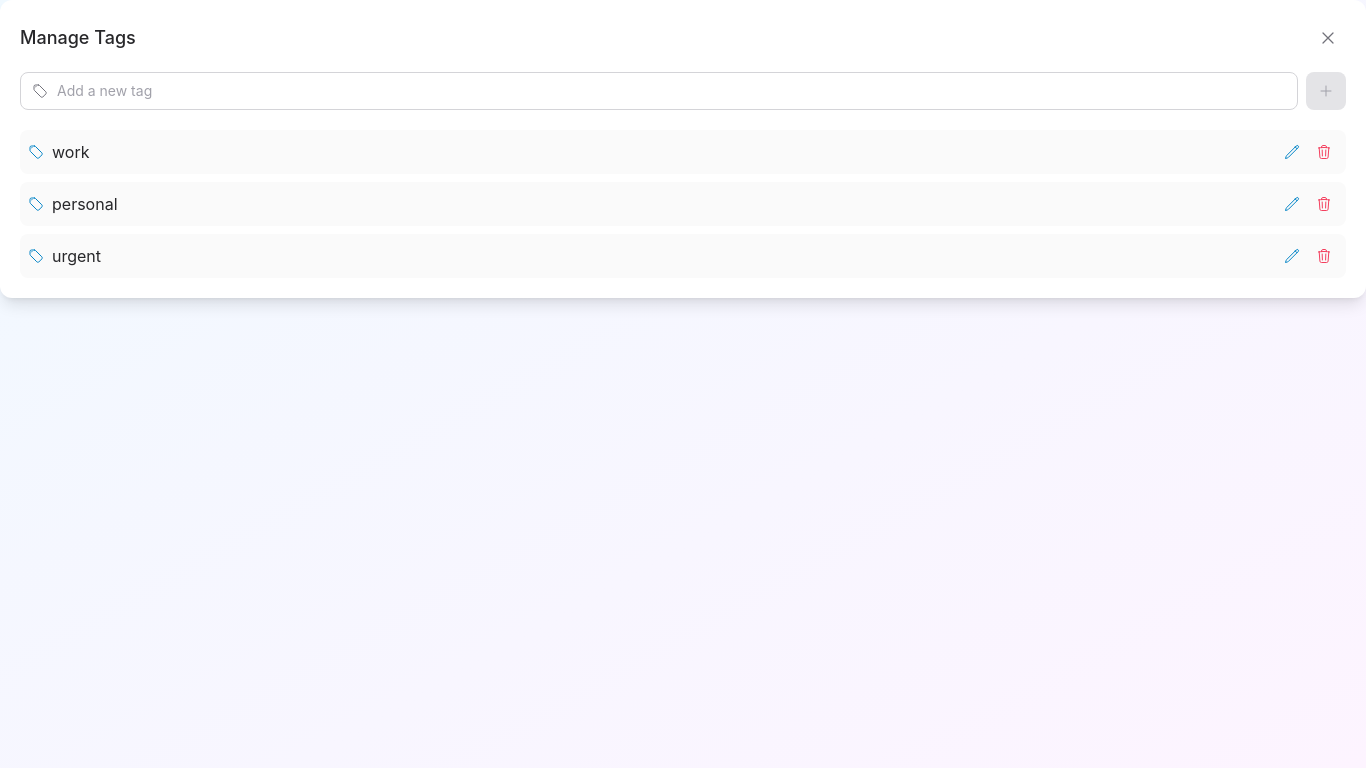
Test: TagManager Component › starts editing a tag when edit button is clicked
Click the button with test id "edit-tag-work" at [1292, 152], box [1278, 138, 1306, 166]
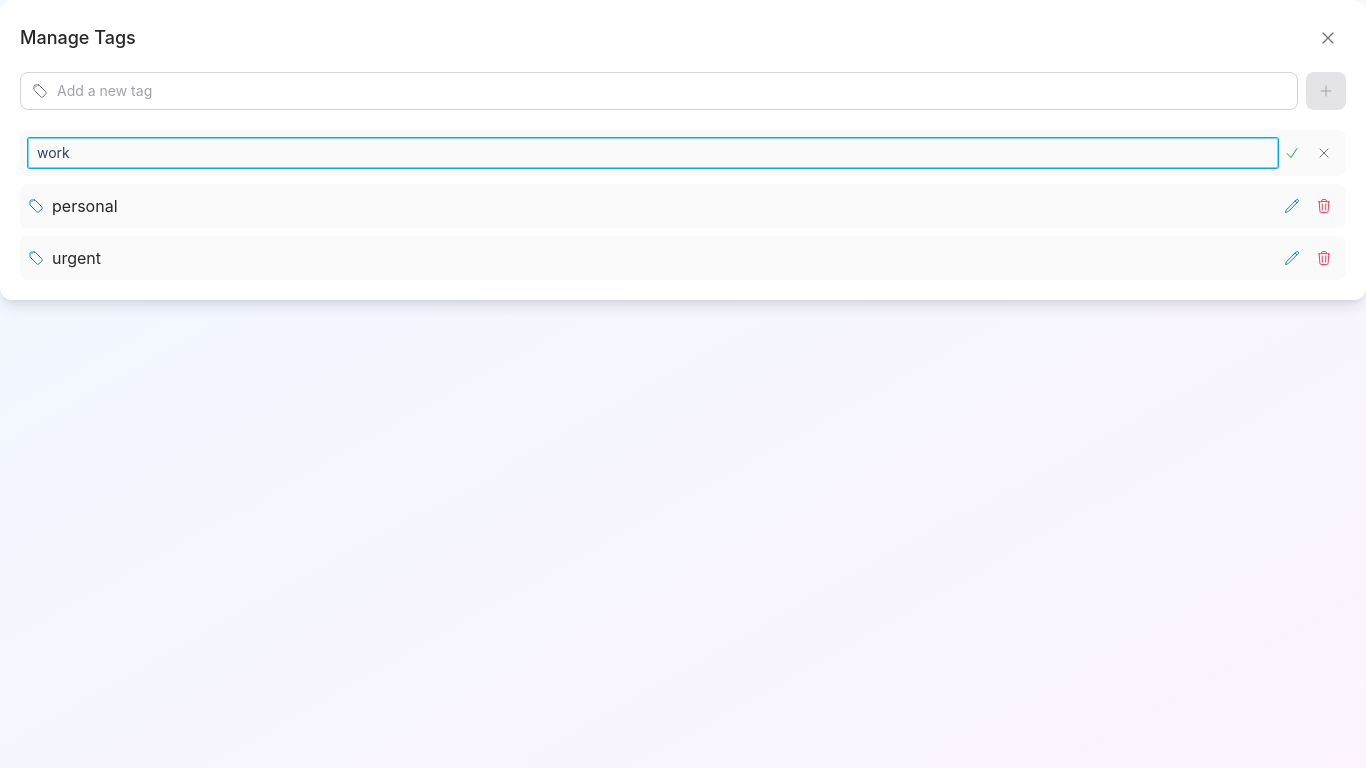
Result: the field with test id "edit-tag-input" is shown at [28, 138, 1278, 168]
Result: the button with test id "save-tag-edit" is shown at [1278, 139, 1306, 167]
Result: the button with test id "cancel-tag-edit" is shown at [1310, 139, 1338, 167]
